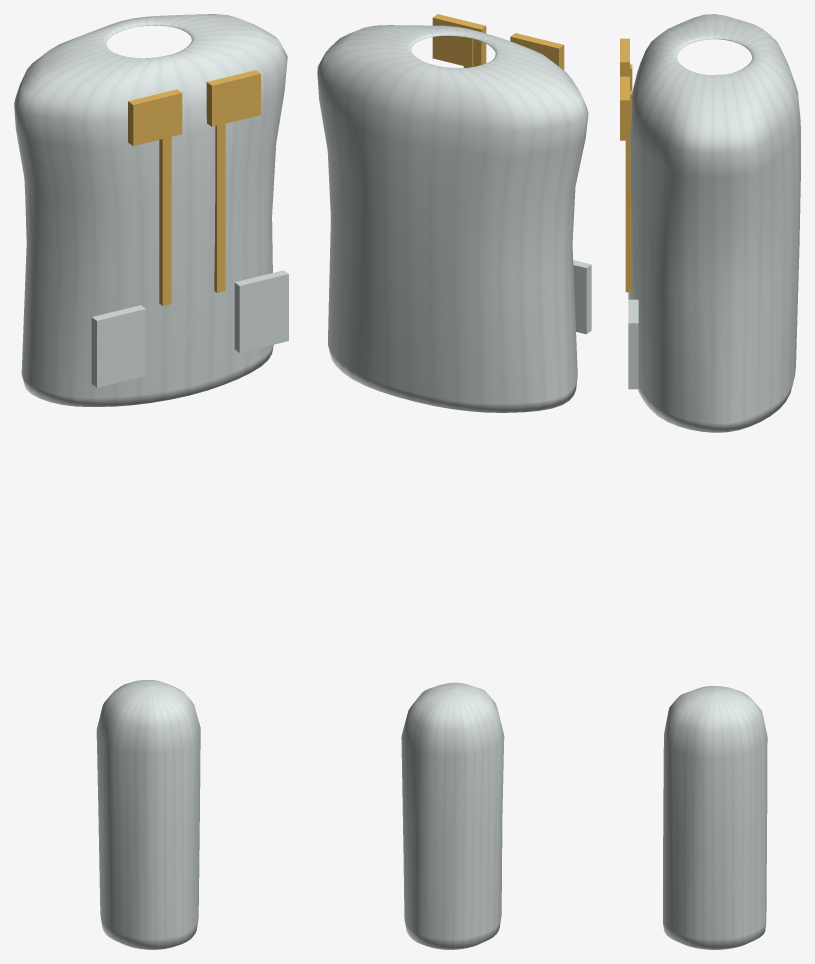
The model's file is lab_coat.gltf.
3 views of the same model, side by side, from view 1: azimuth 30°, elevation 25°; view 2: azimuth 150°, elevation 25°; view 3: azimuth 270°, elevation 25° (orthographic).
Parts seen in each view (by area): view 1: Torso, SleeveL; view 2: Torso, SleeveL; view 3: Torso, SleeveL.
Part boxes in pixels (bbox=[...]): Torso: bbox=[14, 14, 288, 406]; SleeveL: bbox=[96, 680, 200, 949]; Torso: bbox=[317, 14, 591, 412]; SleeveL: bbox=[401, 682, 504, 949]; Torso: bbox=[620, 14, 800, 432]; SleeveL: bbox=[663, 686, 767, 949].
Size of the model in its own units: 0.5276 by 1.73 by 0.3233.
Materials: 2 (2 with a texture image).
